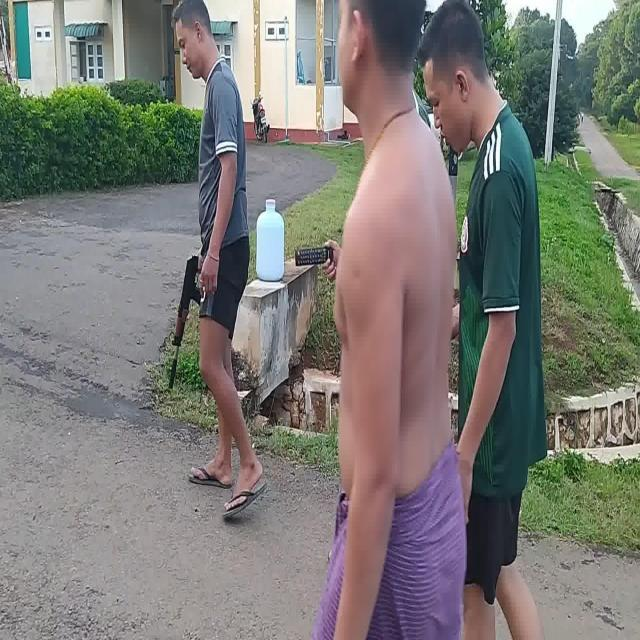gun: (167, 256, 203, 390)
